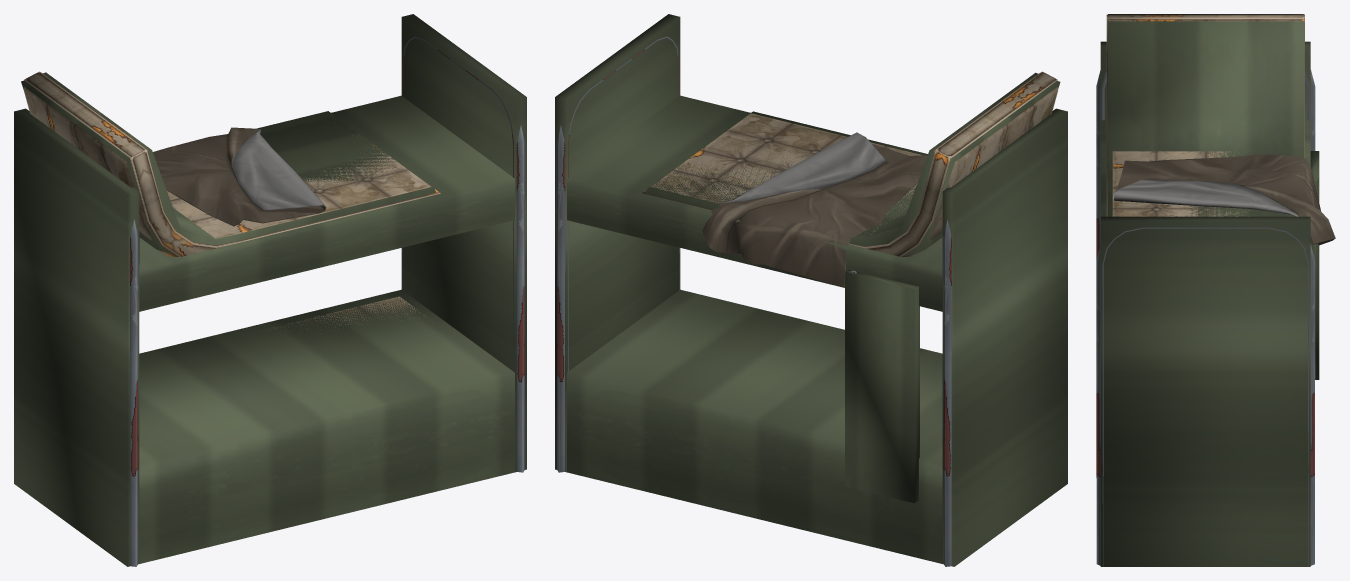
The model's file is bed04_E.fbx.
The picture shows the model from 3 angles, left to right: view 1: azimuth 30°, elevation 25°; view 2: azimuth 150°, elevation 25°; view 3: azimuth 270°, elevation 25°; orthographic projection. The views are drawn at different scales.
Parts seen in each view (by area): view 1: bed04_E_COL, bed04_E; view 2: bed04_E_COL, bed04_E; view 3: bed04_E_COL, bed04_E.
Part boxes in pixels (left/top/right/bottom): bed04_E_COL: left=14, top=14, right=526, bottom=566; bed04_E: left=23, top=36, right=525, bottom=566; bed04_E_COL: left=555, top=14, right=1067, bottom=566; bed04_E: left=556, top=36, right=1058, bottom=566; bed04_E_COL: left=1100, top=14, right=1319, bottom=566; bed04_E: left=1096, top=14, right=1335, bottom=566.
Bounding box in the file's own units: 216 × 211 × 121.
